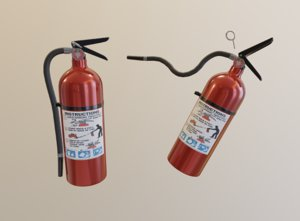fire_extinguisher: (126, 31, 273, 177), (43, 36, 110, 187)
